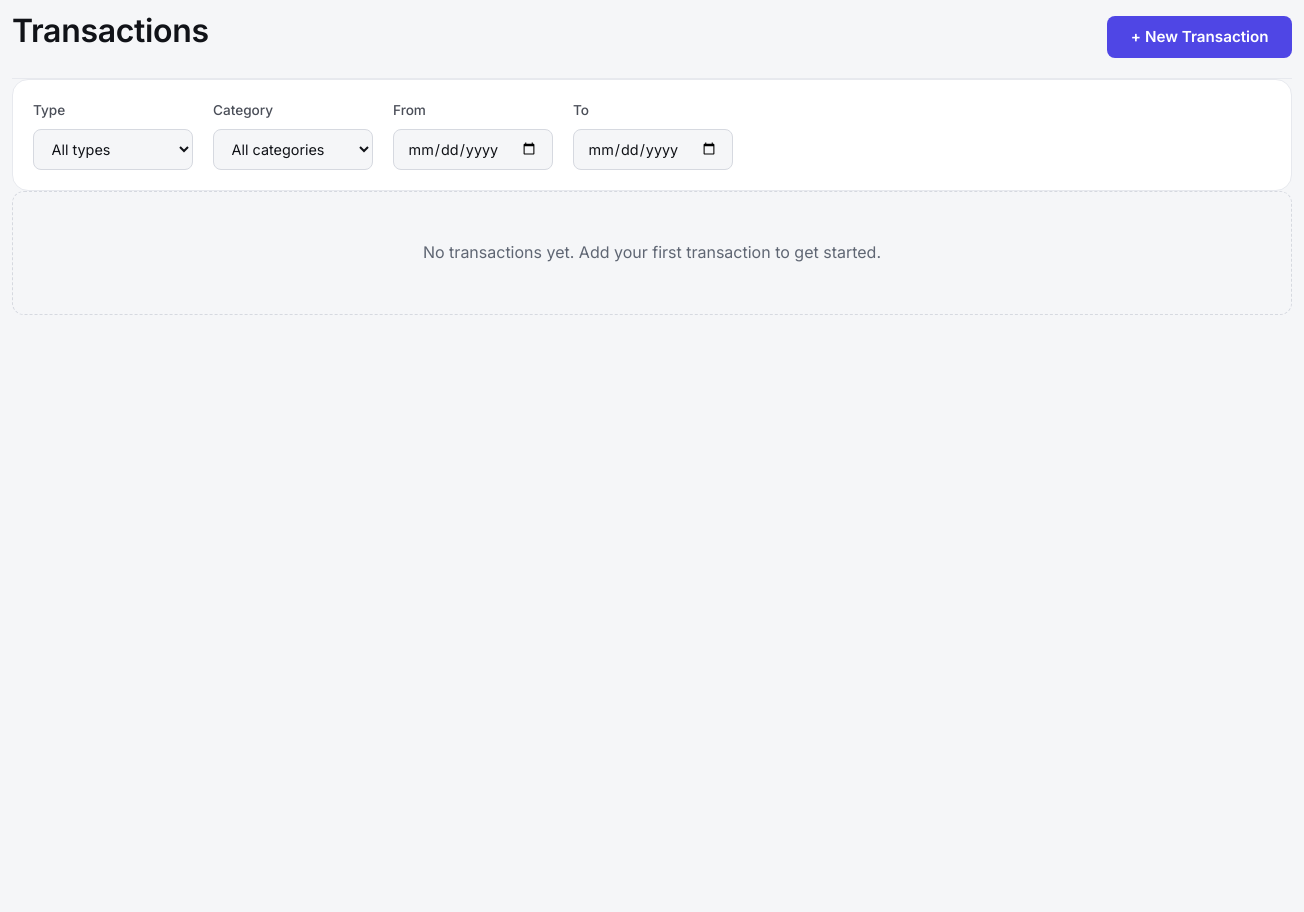
TransactionsTab › opens the create form with empty fields and today as the default date when New Transaction is clicked
Click the button "+ New Transaction" at point(1200, 37), box [1108,16,1292,58]
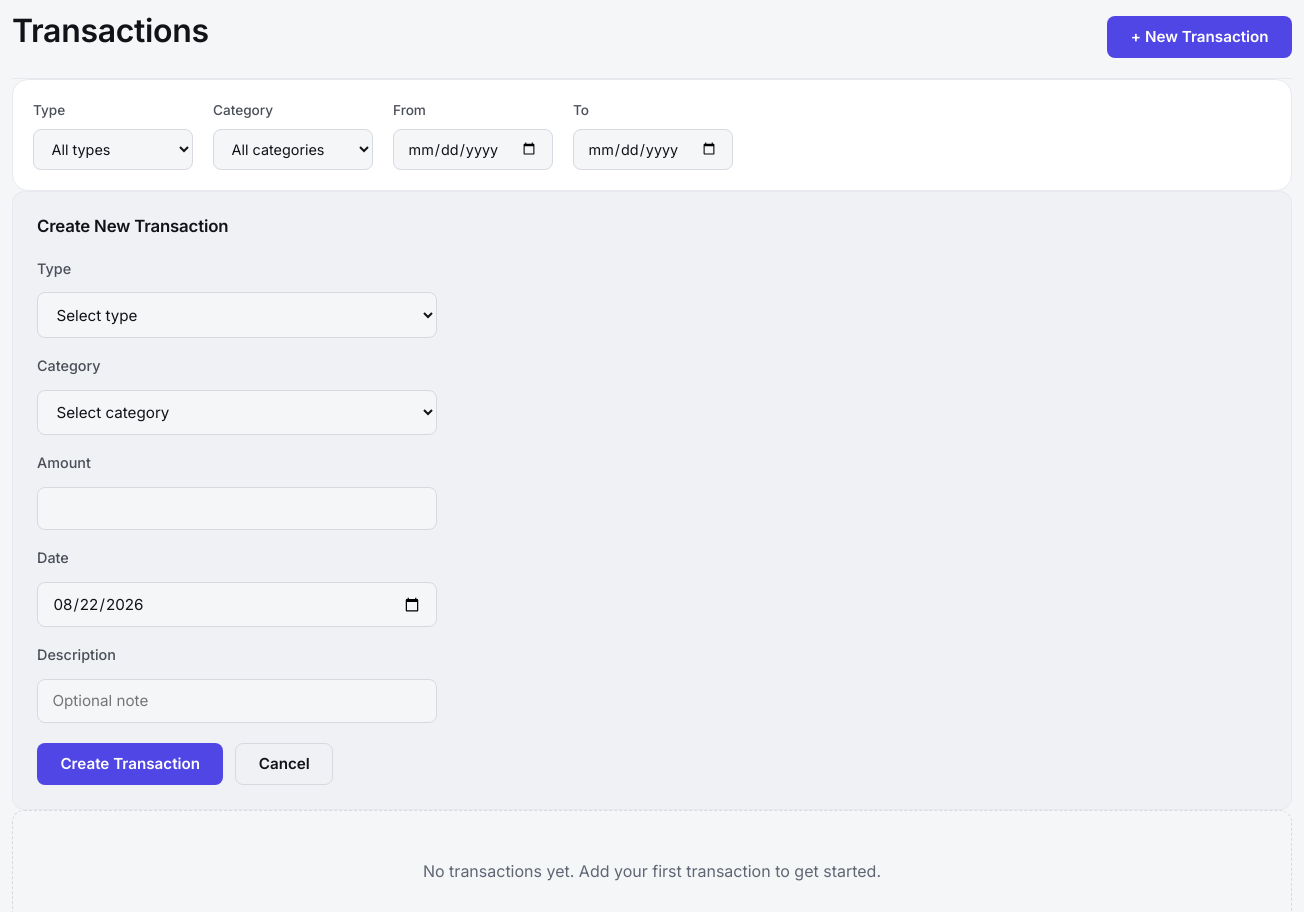
Check: the heading "Create New Transaction" is shown, box [37,216,228,236]
Check: the dropdown labelled "Type" below "Create New Transaction" shows "Select type", box [37,292,437,338]
Check: the dropdown labelled "Category" below "Create New Transaction" shows "Select category", box [37,390,437,435]
